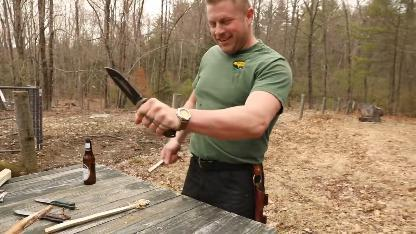knife: (99, 58, 175, 136)
